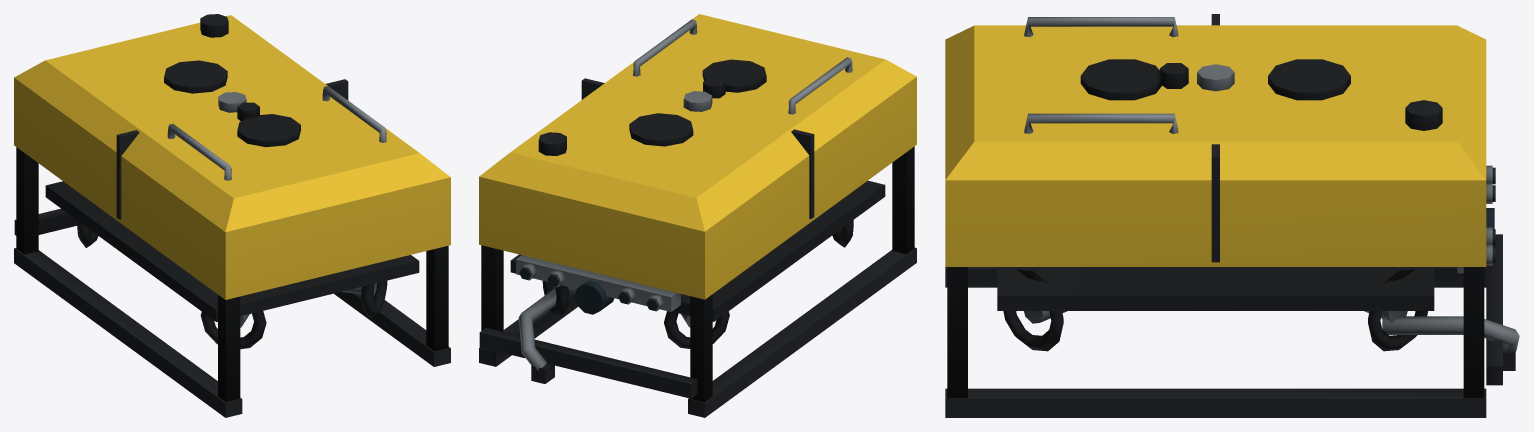
The model's file is rov_LOD0.glb.
3 views of the same model, side by side, from view 1: azimuth 30°, elevation 25°; view 2: azimuth 150°, elevation 25°; view 3: azimuth 270°, elevation 25° (orthographic). The views are drawn at different scales.
Visible parts, largest first — view 1: Hull, Rubber, Machinery; view 2: Hull, Rubber, Machinery, Windows; view 3: Hull, Rubber, Machinery.
Part boxes in pixels (left/top/right/bottom): Hull: left=14, top=15, right=450, bottom=299; Rubber: left=14, top=14, right=450, bottom=417; Machinery: left=167, top=86, right=386, bottom=327; Hull: left=479, top=14, right=916, bottom=299; Rubber: left=479, top=59, right=916, bottom=417; Machinery: left=516, top=19, right=852, bottom=370; Windows: left=519, top=267, right=658, bottom=314; Hull: left=945, top=25, right=1486, bottom=266; Rubber: left=945, top=14, right=1515, bottom=417; Machinery: left=1024, top=17, right=1519, bottom=353.
Bounding box in the file's own units: 1.62 × 1.49 × 2.76.
